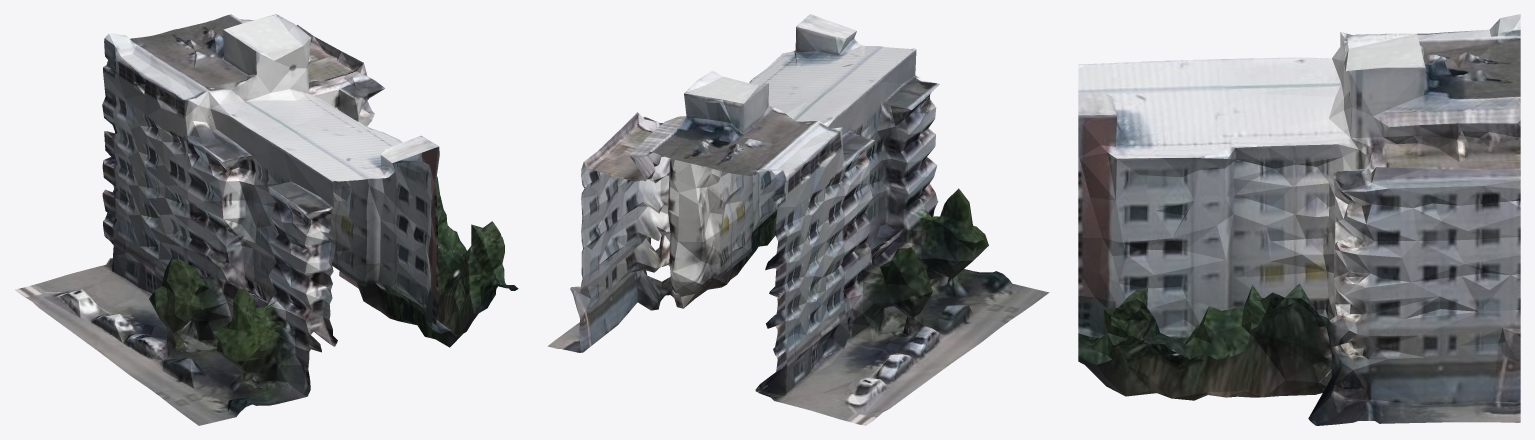
The model's file is helsinki-2-5.glb.
3 views of the same model, side by side, from view 1: azimuth 30°, elevation 25°; view 2: azimuth 150°, elevation 25°; view 3: azimuth 270°, elevation 25° (orthographic). The views are drawn at different scales.
Size of the model in its own units: 31.75 by 24.09 by 31.75.
Materials: 1 (1 with a texture image).
